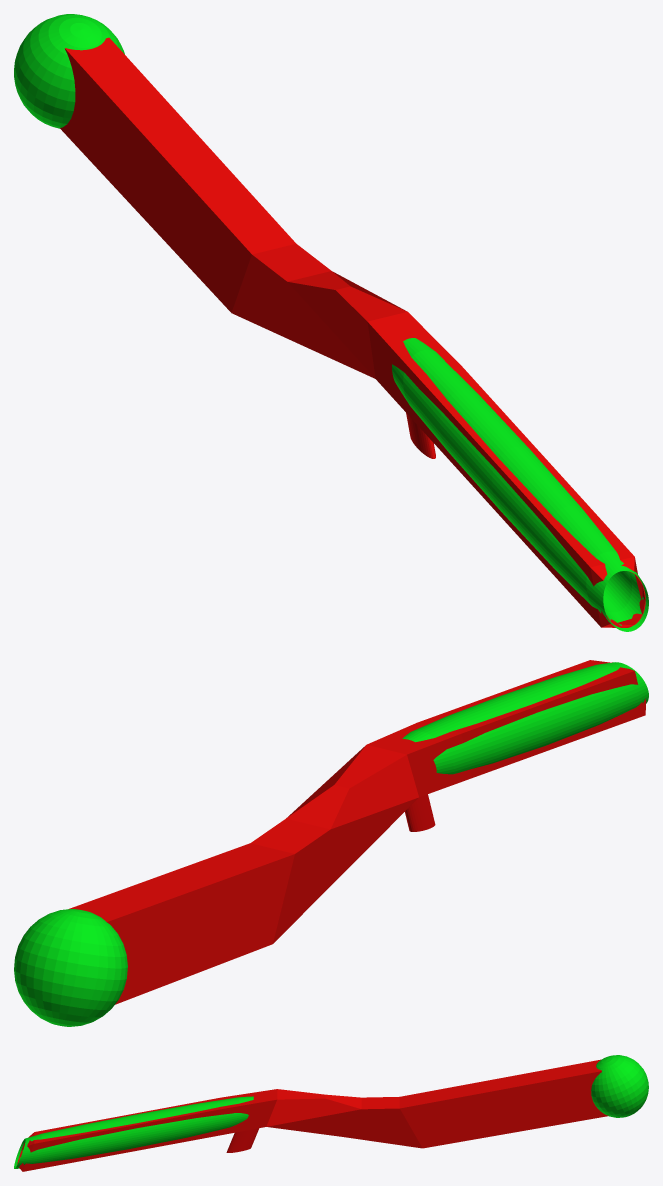
File: Weapon2-shotgun.fbx
The picture shows the model from 3 angles, top to bottom: view 1: azimuth 30°, elevation 25°; view 2: azimuth 150°, elevation 25°; view 3: azimuth 270°, elevation 25°; orthographic projection. The views are drawn at different scales.
Visible parts, largest first — view 1: Sphere; view 2: Sphere; view 3: Sphere.
Part boxes in pixels (box(x1,y1,x2,y2)): Sphere: box(14, 14, 648, 631); Sphere: box(14, 660, 648, 1026); Sphere: box(14, 1055, 648, 1171).
Size of the model in its own units: 2.6 by 5.12 by 26.86.
